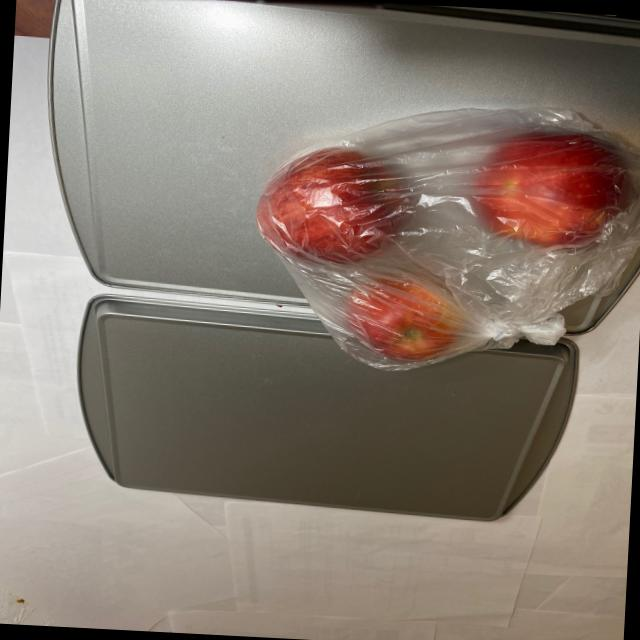apple: (245, 112, 637, 376)
